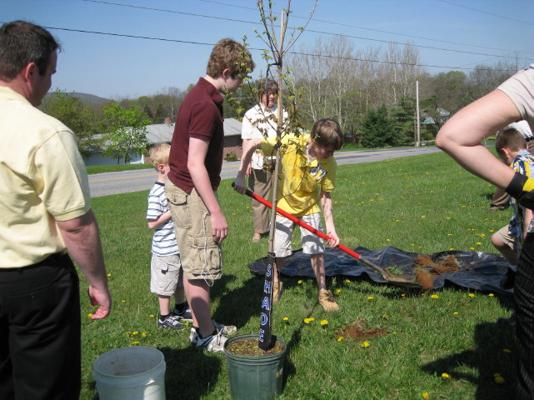person: (237, 116, 347, 314)
